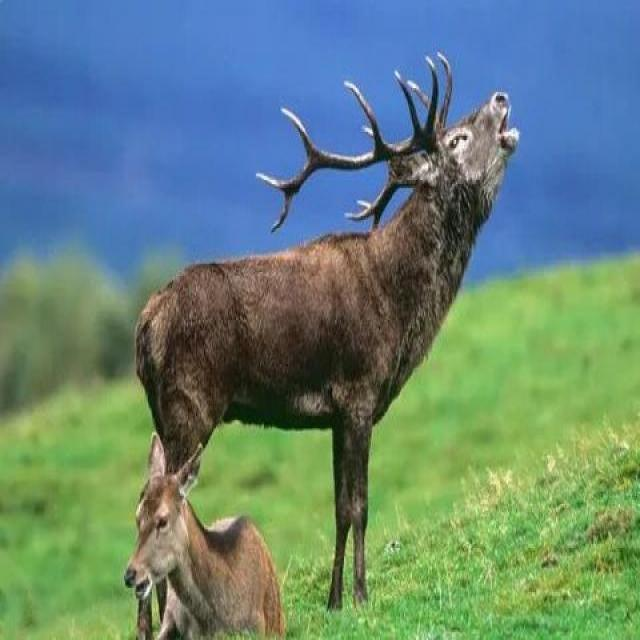deer: (105, 24, 530, 535)
